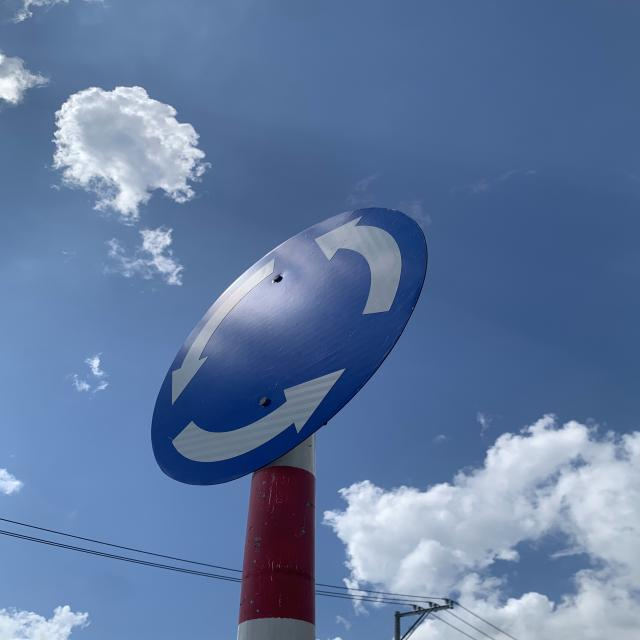Xe_Bus: (154, 202, 428, 488)
